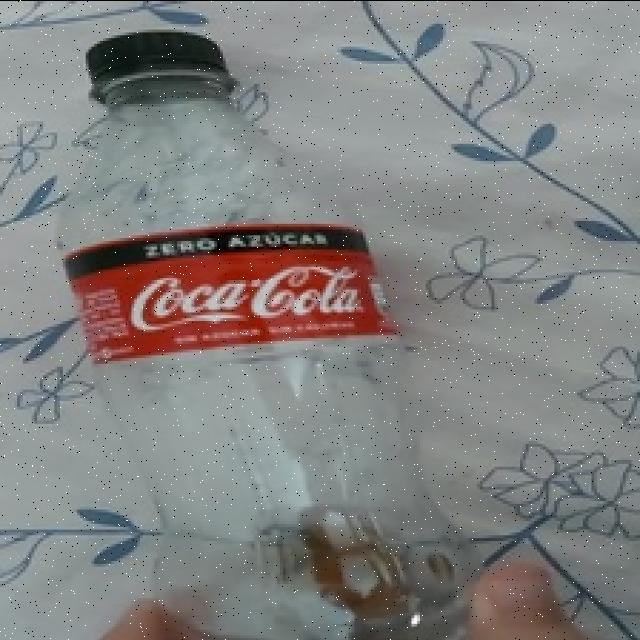plastic: (47, 24, 452, 640)
